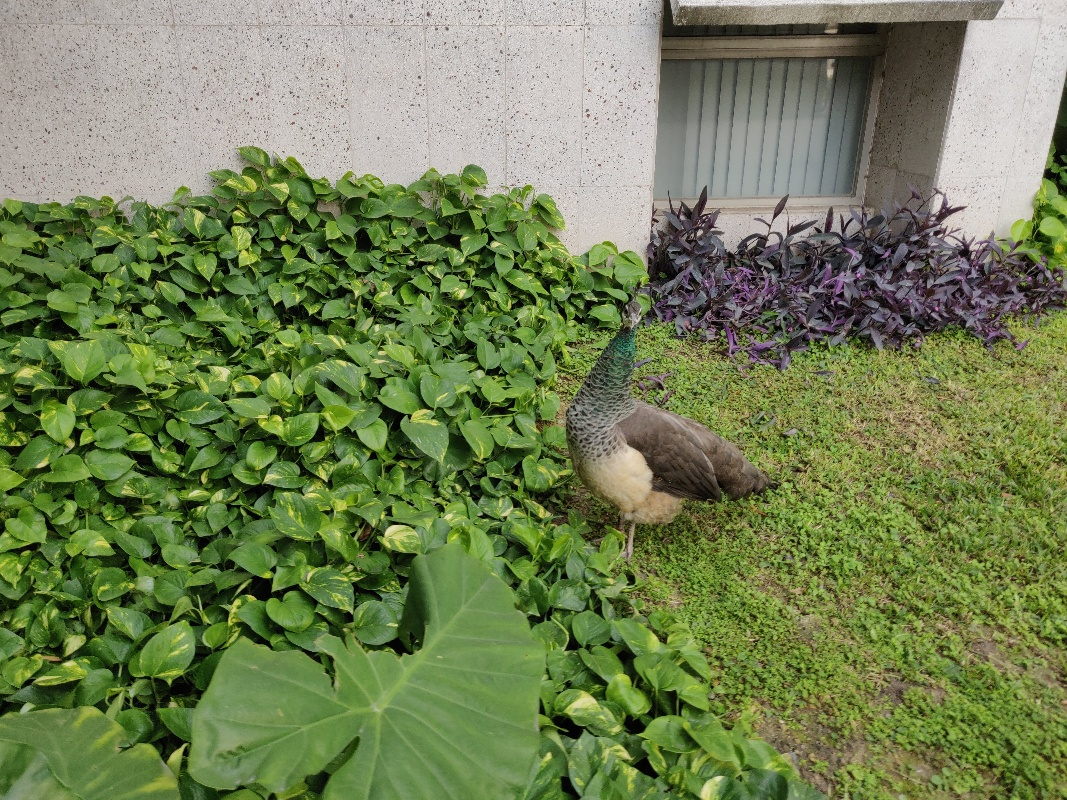pavoreal: (570, 299, 740, 538)
